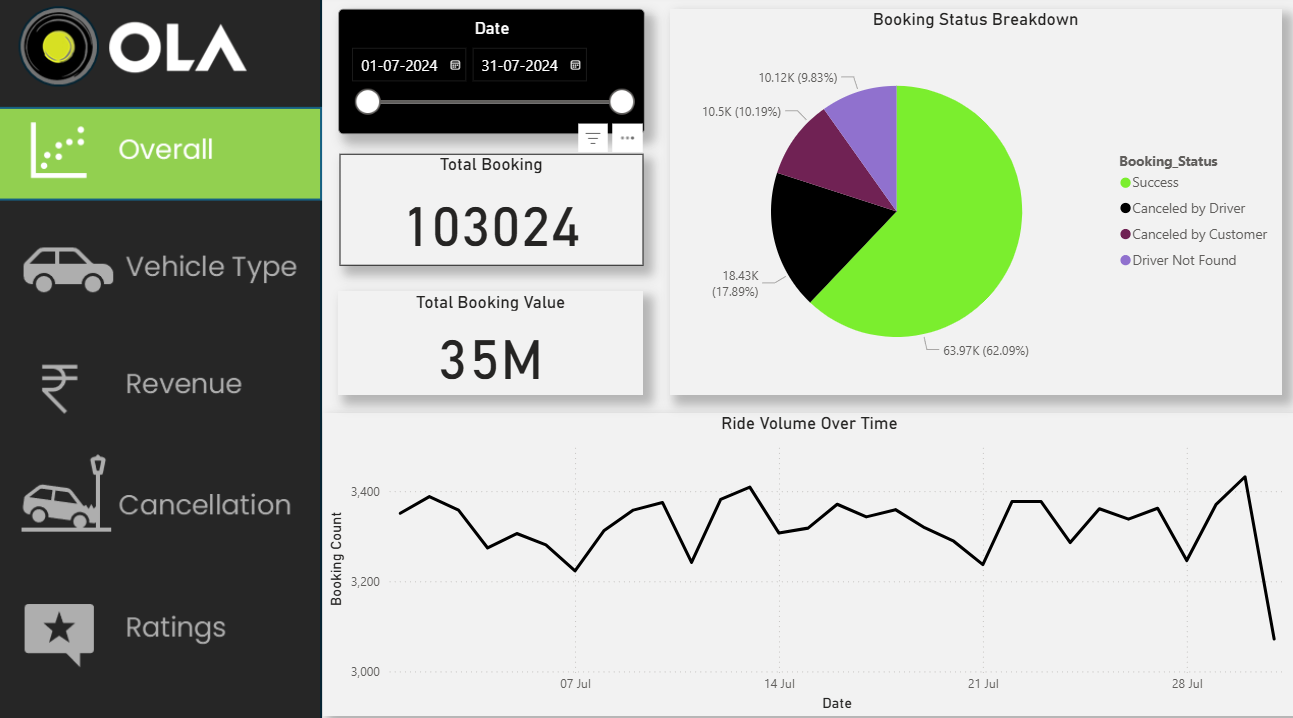

What the dashboard file says about the page in this screenshot:
{"tool":"powerbi","page":{"name":"Overall","canvas":[1280,720],"ordinal":0},"visuals":[{"type":"actionButton","box":[0,219.6,325.2,94.5],"z":0},{"type":"actionButton","box":[0,344.8,325.2,94.5],"z":1000},{"type":"actionButton","box":[0,447.9,325.2,95.7],"z":2000},{"type":"actionButton","box":[0,577.9,325.2,94.5],"z":3000},{"type":"lineChart","title":"Ride Volume Over Time","fields":{"Y":["CountNonNull(July.Booking_ID)"],"Category":["July.Date"]},"box":[325.2,409.8,954.6,298.2],"z":4000},{"type":"pieChart","title":"Booking Status  Breakdown","fields":{"Category":["July.Booking_Status"],"Y":["CountNonNull(July.Booking_Status)"]},"box":[665,13.5,601.2,379.1],"z":5000},{"type":"slicer","title":"Date","fields":{"Values":["July.Date"]},"box":[340.3,13.7,300.5,123.5],"z":6000},{"type":"card","title":"Total Booking ","fields":{"Values":["CountNonNull(July.Booking_ID)"]},"box":[341.7,156.4,297.8,109.8],"z":7000},{"type":"card","title":"Total Booking  Value","fields":{"Values":["Sum(July.Booking_Value)"]},"box":[339.9,290.8,299.4,101.8],"z":8000}]}

Visuals, with their boxes on the page's 1280x720 design canvas (x1, y1, x2, y2). These are canvas units, not pixel positions in the 1293x718 screenshot, which may show the page scaled, cropped or inside an application window:
actionButton: [left=0, top=220, right=325, bottom=314]
actionButton: [left=0, top=345, right=325, bottom=439]
actionButton: [left=0, top=448, right=325, bottom=544]
actionButton: [left=0, top=578, right=325, bottom=672]
"Ride Volume Over Time" lineChart: [left=325, top=410, right=1280, bottom=708]
"Booking Status  Breakdown" pieChart: [left=665, top=14, right=1266, bottom=393]
"Date" slicer: [left=340, top=14, right=641, bottom=137]
"Total Booking " card: [left=342, top=156, right=640, bottom=266]
"Total Booking  Value" card: [left=340, top=291, right=639, bottom=393]
